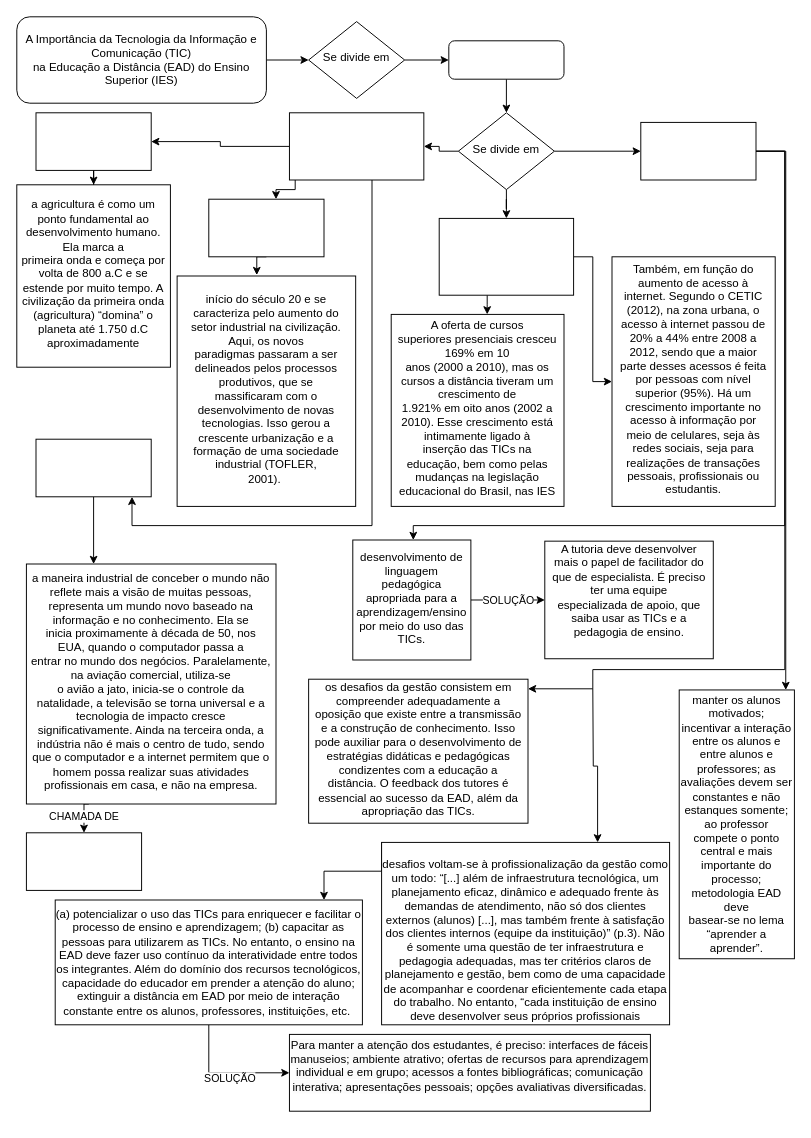
Image size: 811x1138. Some labels were removed from this diagram. The centre of each missing label's shape, as x and y in pixels:
1ª ONDA: [93,141]
2ª ONDA: [266,227]
3ª ONDA: [93,467]
desafios à Gestão de TI: [698,150]
DESENVOLVIMENTO: [506,59]
Era da Informação; Conhecimento; Tecnologia: [83,861]
indicadores sobre o crescimento da EAD e das TICs em nível superior: [506,256]
resgate histórico da sociedade agrícola à sociedade tecnológica: [356,146]
